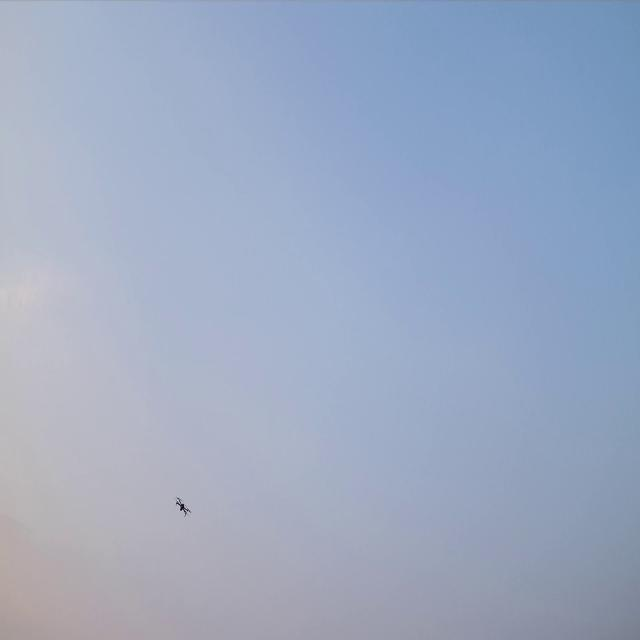UAV: (174, 492, 192, 519)
